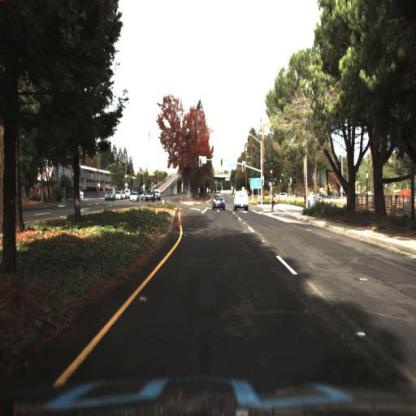biker: (273, 193, 281, 214)
car: (234, 193, 248, 215), (103, 186, 118, 202), (104, 187, 116, 204), (145, 189, 156, 207), (129, 190, 141, 206), (144, 188, 156, 204), (215, 197, 227, 211), (129, 189, 139, 203), (280, 188, 292, 199), (115, 189, 123, 203), (155, 190, 163, 202)
trafficLight-Red: (270, 168, 275, 178)
